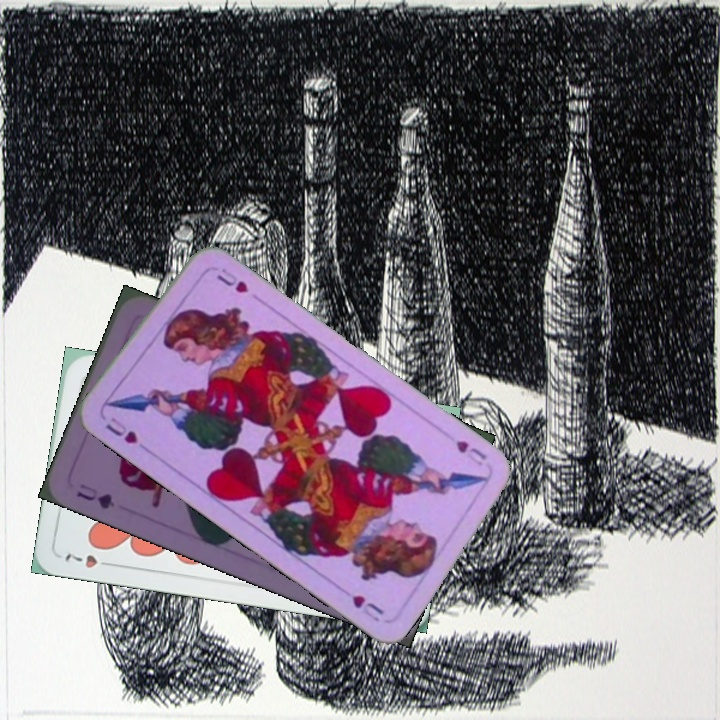GU: (72, 479, 117, 512)
H7: (61, 549, 117, 571)
HU: (101, 413, 150, 453), (452, 436, 489, 463)
